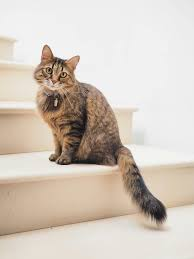cat: (32, 44, 167, 230)
